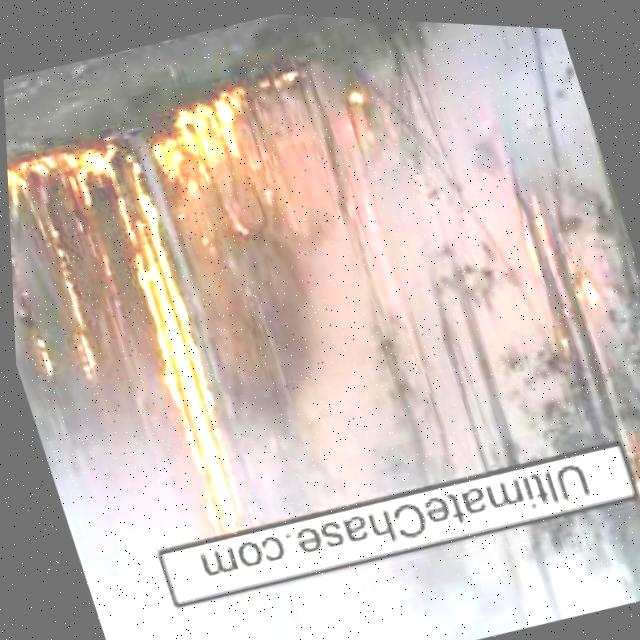Fire: (100, 196, 245, 541), (3, 80, 273, 243), (505, 168, 615, 350), (47, 281, 113, 389), (17, 323, 61, 376), (616, 440, 640, 523)
Smoke: (152, 129, 584, 538), (90, 482, 611, 640), (243, 10, 604, 236)
